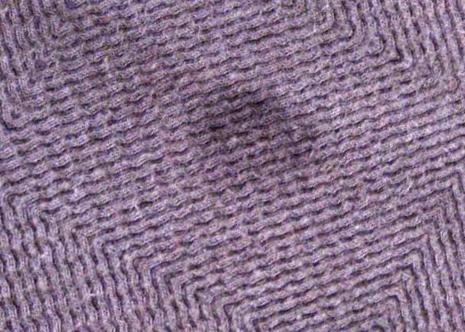stain: (183, 76, 324, 188)
